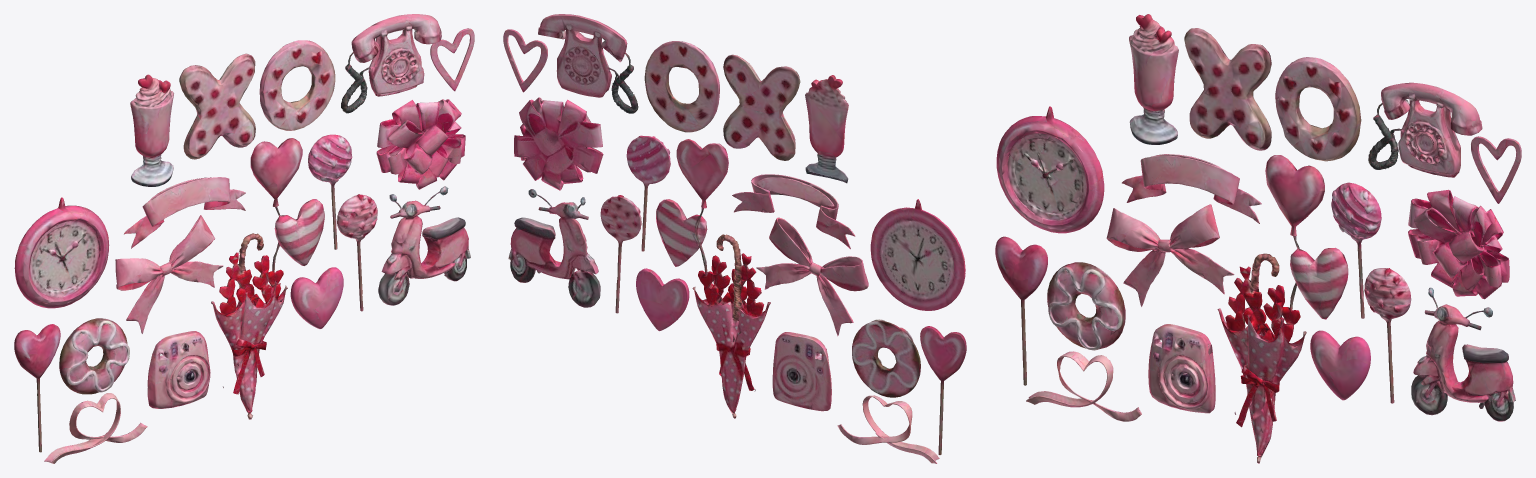
3 views of the same model, side by side, from view 1: azimuth 30°, elevation 25°; view 2: azimuth 150°, elevation 25°; view 3: azimuth 330°, elevation 25° (orthographic). The views are drawn at different scales.
Visible parts, largest first — view 1: Mesh 11, Mesh 10, Mesh 2, Mesh 17, Mesh 18, Mesh 16, Mesh 6, Mesh 9, Mesh 5, Mesh 8, Mesh 7, Mesh 13 (+5 smaller); view 2: Mesh 11, Mesh 10, Mesh 2, Mesh 17, Mesh 18, Mesh 16, Mesh 6, Mesh 9, Mesh 5, Mesh 8, Mesh 7, Mesh 13 (+5 smaller); view 3: Mesh 11, Mesh 10, Mesh 2, Mesh 17, Mesh 18, Mesh 16, Mesh 6, Mesh 9, Mesh 5, Mesh 8, Mesh 7, Mesh 13 (+5 smaller).
Part boxes in pixels (<box>): Mesh 11: <box>211,138,324,419</box>; Mesh 10: <box>179,40,335,159</box>; Mesh 2: <box>14,197,109,308</box>; Mesh 17: <box>376,99,465,189</box>; Mesh 18: <box>378,186,470,305</box>; Mesh 16: <box>341,14,441,113</box>; Mesh 6: <box>115,215,223,333</box>; Mesh 9: <box>147,331,223,408</box>; Mesh 5: <box>59,318,129,394</box>; Mesh 8: <box>130,74,173,186</box>; Mesh 7: <box>124,177,245,248</box>; Mesh 13: <box>290,267,343,328</box>; Mesh 11: <box>656,139,770,418</box>; Mesh 10: <box>644,41,800,160</box>; Mesh 2: <box>870,199,965,310</box>; Mesh 17: <box>514,97,603,190</box>; Mesh 18: <box>508,189,600,307</box>; Mesh 16: <box>538,14,638,113</box>; Mesh 6: <box>756,217,868,336</box>; Mesh 9: <box>754,332,831,411</box>; Mesh 5: <box>852,319,920,397</box>; Mesh 8: <box>805,75,848,183</box>; Mesh 7: <box>732,174,855,249</box>; Mesh 13: <box>636,268,689,331</box>; Mesh 11: <box>1217,155,1348,463</box>; Mesh 10: <box>1184,28,1361,161</box>; Mesh 2: <box>996,106,1104,233</box>; Mesh 17: <box>1408,189,1509,299</box>; Mesh 18: <box>1411,287,1515,421</box>; Mesh 16: <box>1368,82,1482,177</box>; Mesh 6: <box>1106,204,1234,306</box>; Mesh 9: <box>1148,324,1235,414</box>; Mesh 5: <box>1047,262,1125,350</box>; Mesh 8: <box>1129,14,1178,144</box>; Mesh 7: <box>1122,154,1261,223</box>; Mesh 13: <box>1310,330,1370,400</box>.
Size of the model in its own units: 1.9 by 1.45 by 0.0819.
17 materials, 17 textured.
